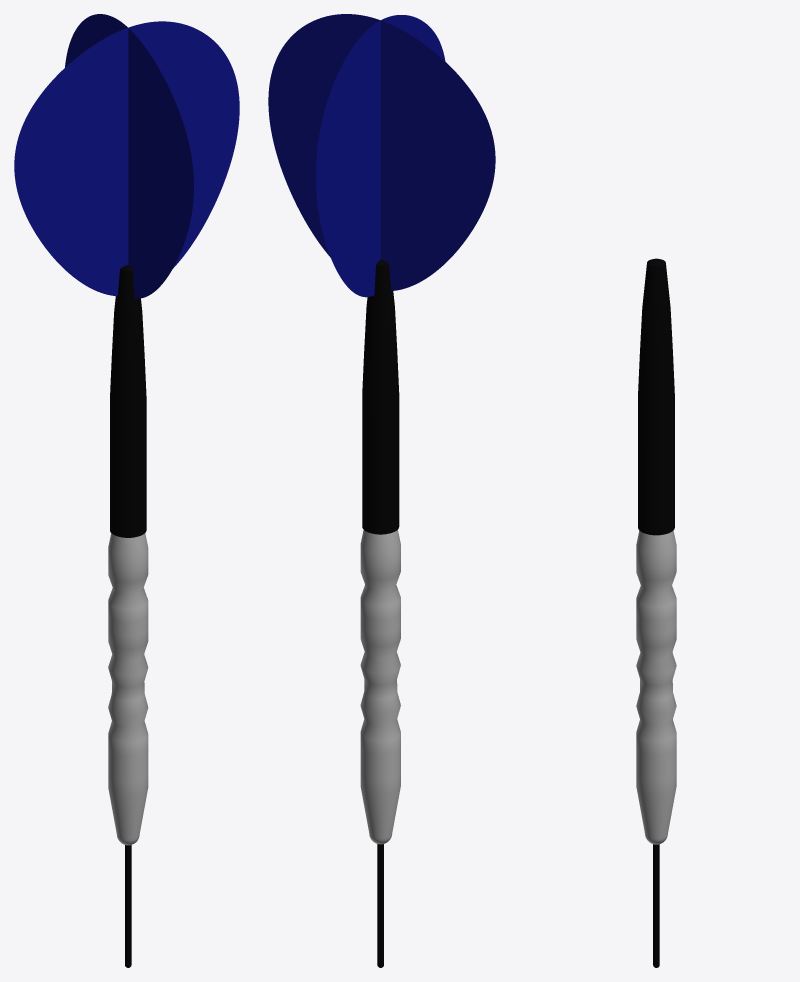
File: Dart.fbx
3 views of the same model, side by side, from view 1: azimuth 30°, elevation 25°; view 2: azimuth 150°, elevation 25°; view 3: azimuth 270°, elevation 25° (orthographic).
Visible parts, largest first — view 1: Dart; view 2: Dart; view 3: Dart.
Boxes of the visible parts, left/top/right/bottom form: Dart: left=14, top=14, right=239, bottom=967; Dart: left=268, top=14, right=495, bottom=967; Dart: left=636, top=258, right=676, bottom=967.
Size of the model in its own units: 15.58 by 62.12 by 15.58.
